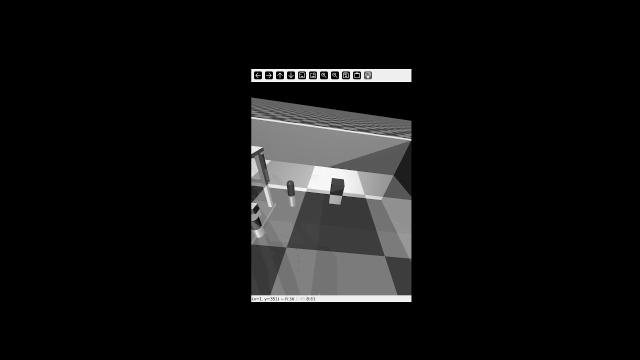cilindro: (285, 178, 298, 196), (250, 215, 264, 229), (260, 150, 266, 170)
cuadrado: (328, 173, 356, 200), (246, 200, 262, 214)
